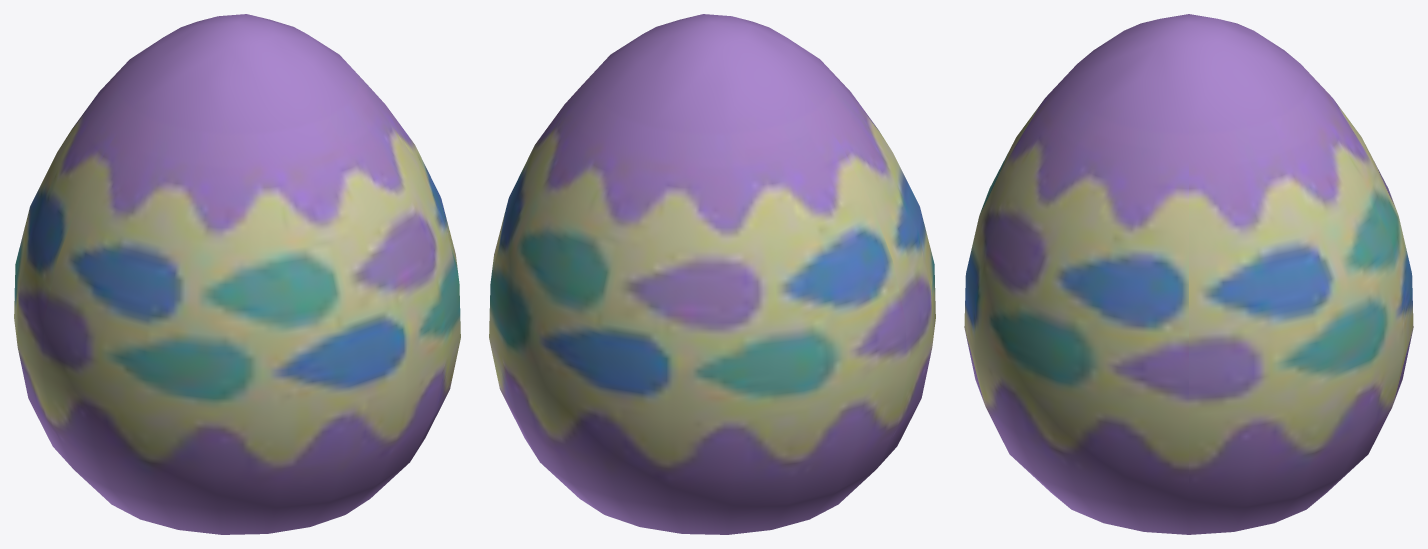
The model's file is water-egg.glb.
3 renders of one model, left to right at view 1: azimuth 30°, elevation 25°; view 2: azimuth 150°, elevation 25°; view 3: azimuth 270°, elevation 25°, orthographic.
Size of the model in its own units: 3.02 by 3.62 by 3.02.
Materials: 1 (1 with a texture image).
